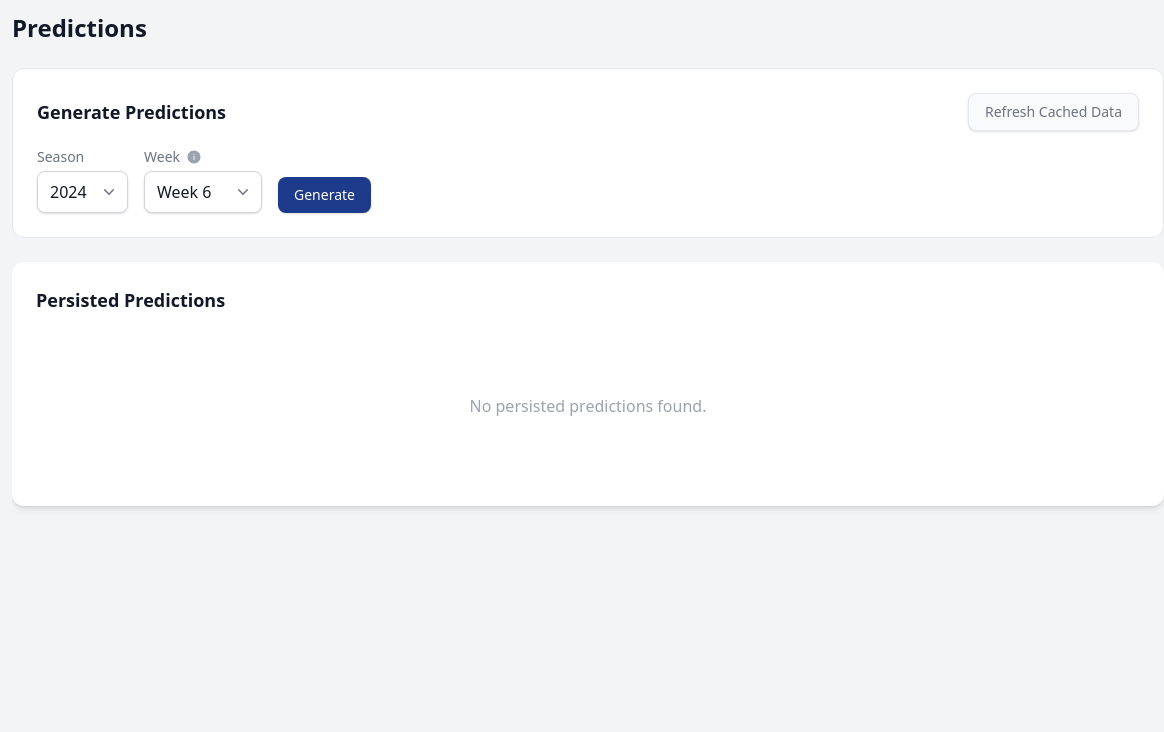
Test: PredictionsPage › shows error feedback when grading fails
What coordinates should you click on to do the following:
click the button "Generate"
I would click on:
 (324, 195)
Its box is [278, 177, 371, 213].
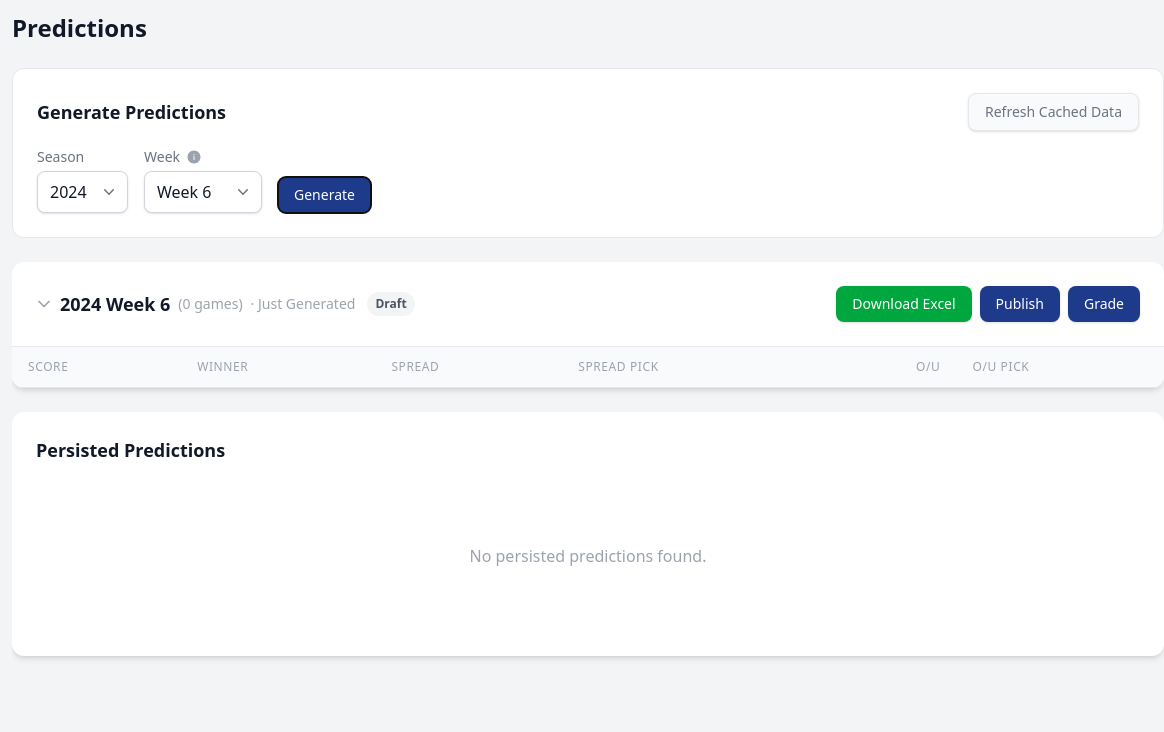
Result: the button "Grade" is shown
What coordinates should you click on to do the following:
click the button "Grade"
I would click on:
 (1104, 304)
Its box is [1068, 286, 1140, 322].
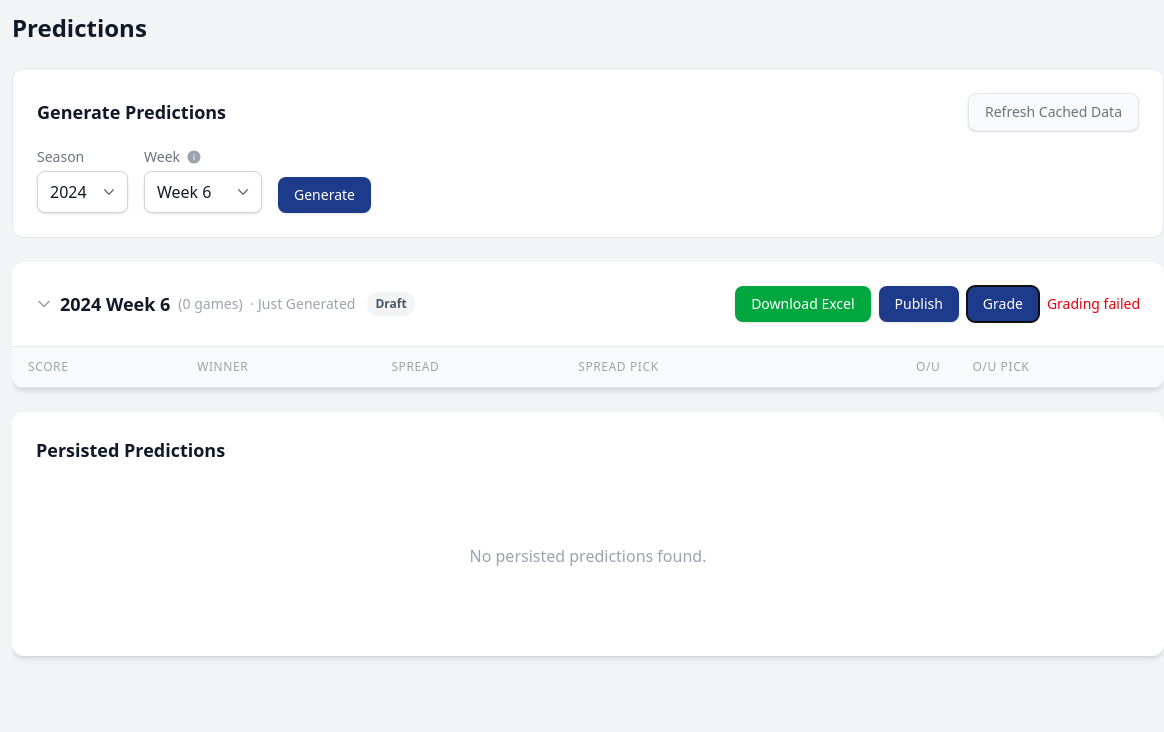
Result: the text "Grading failed" is shown at [1047, 294, 1140, 314]
